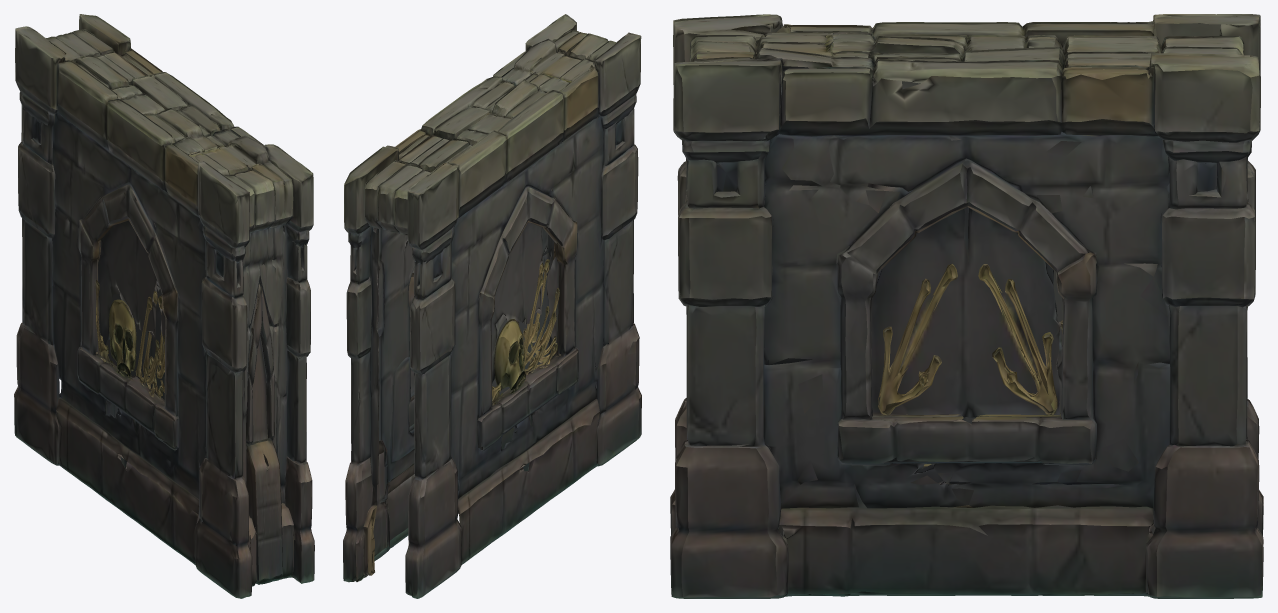
File: DungeonWall_BonesNiche_A_UnrealReady.glb
The picture shows the model from 3 angles, left to right: view 1: azimuth 30°, elevation 25°; view 2: azimuth 150°, elevation 25°; view 3: azimuth 270°, elevation 25°; orthographic projection. The views are drawn at different scales.
Visible parts, largest first — view 1: DungeonWall_BonesNiche_A_UnrealReady; view 2: DungeonWall_BonesNiche_A_UnrealReady; view 3: DungeonWall_BonesNiche_A_UnrealReady.
Part boxes in pixels (bbox=[...]): DungeonWall_BonesNiche_A_UnrealReady: bbox=[14, 14, 314, 598]; DungeonWall_BonesNiche_A_UnrealReady: bbox=[343, 14, 641, 598]; DungeonWall_BonesNiche_A_UnrealReady: bbox=[670, 14, 1263, 598].
Bounding box in the file's own units: 1.2 × 6 × 6.
Materials: 1 (1 with a texture image).
